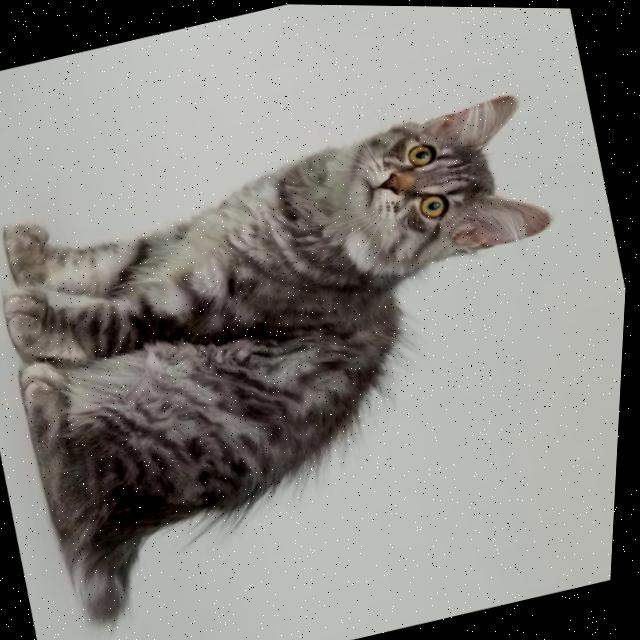American Bobtail: (0, 75, 637, 640)
